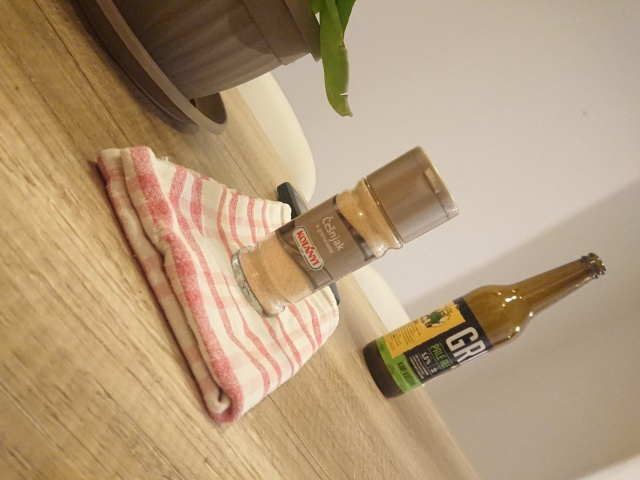Kotanyi Garlic Granules 70g: (228, 144, 462, 323)
